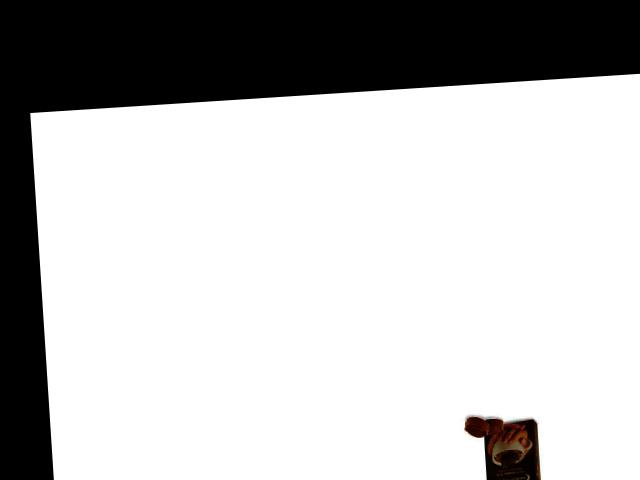chocolate: (474, 416, 546, 480)
